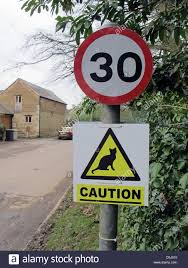Speed_limit_30km: (75, 26, 153, 103)
